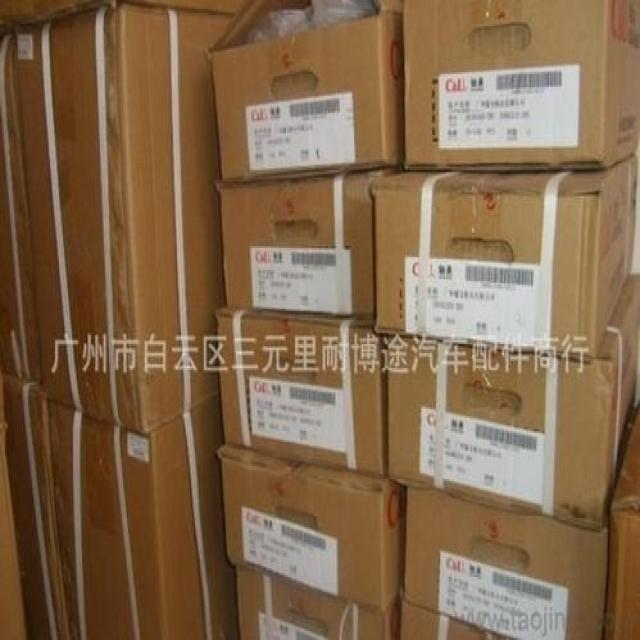box: (14, 6, 236, 433), (386, 272, 640, 533), (372, 152, 637, 357), (45, 390, 240, 640), (404, 0, 639, 170), (208, 2, 404, 178), (403, 485, 609, 640), (218, 442, 407, 610), (213, 303, 389, 477), (221, 168, 405, 318), (3, 372, 68, 638), (0, 37, 42, 381), (239, 562, 403, 640), (602, 405, 639, 638), (1, 372, 26, 638)
